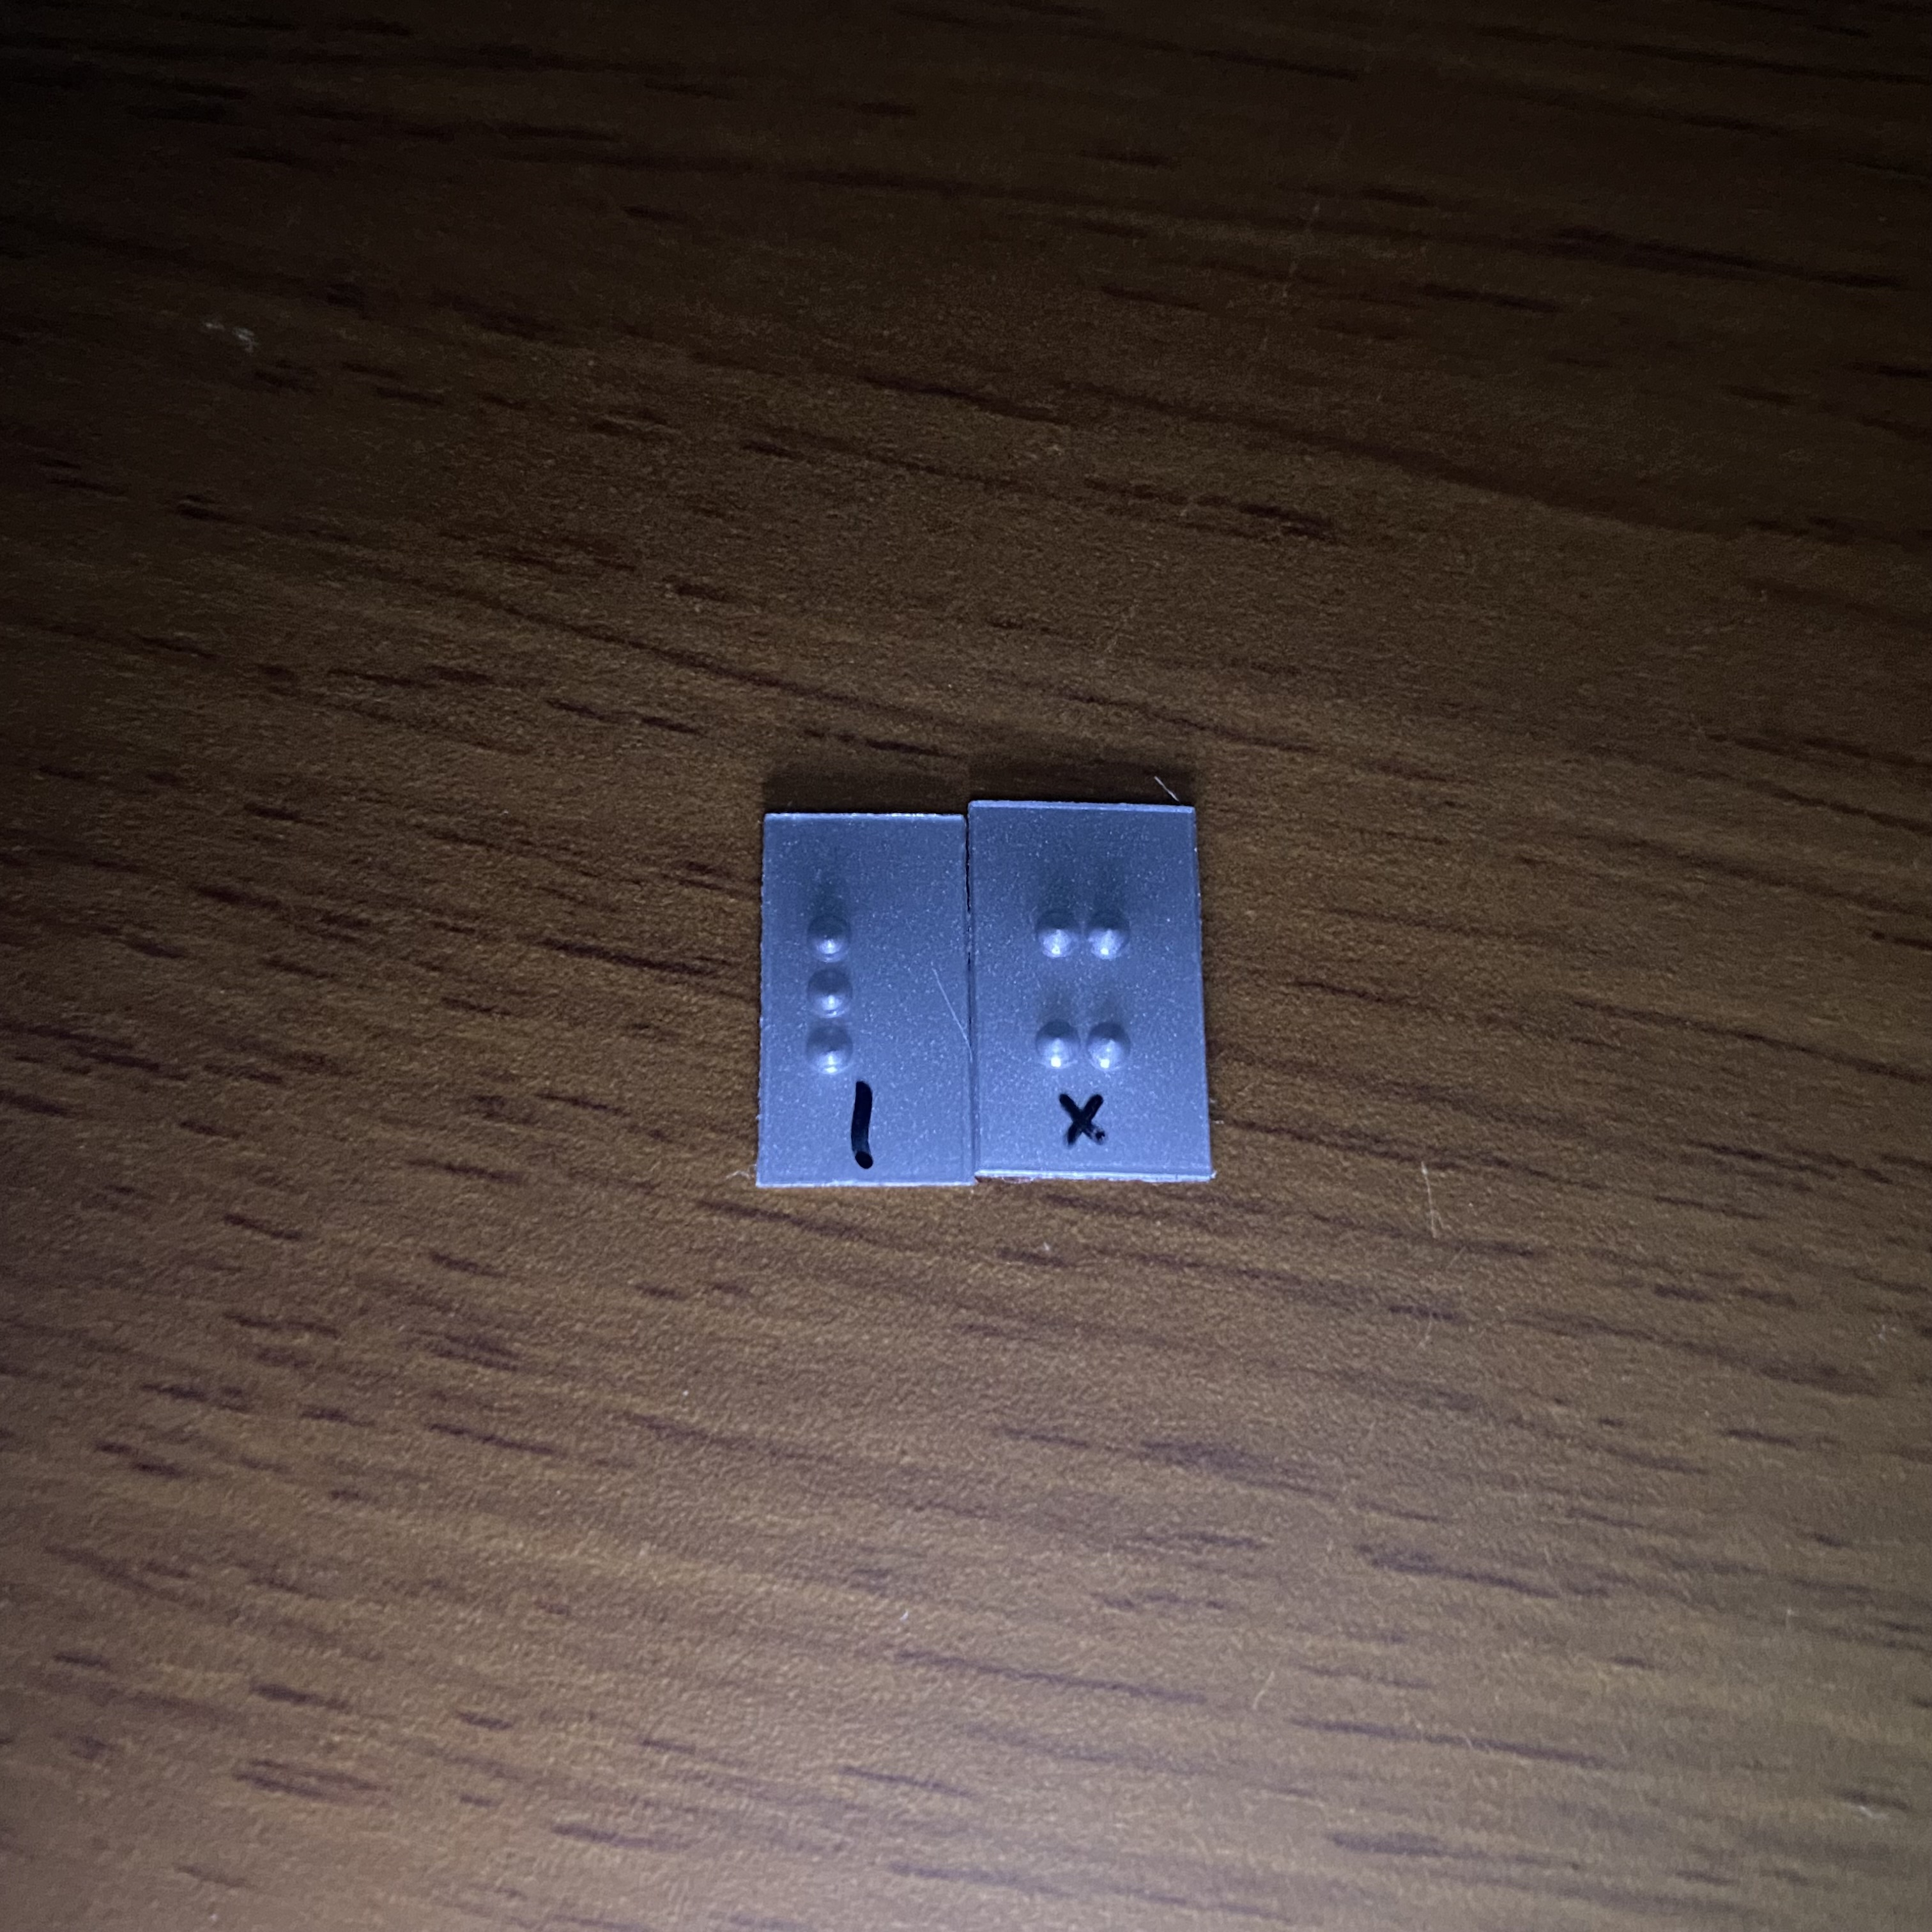l: (798, 881, 928, 1082)
x: (1025, 875, 1146, 1086)
